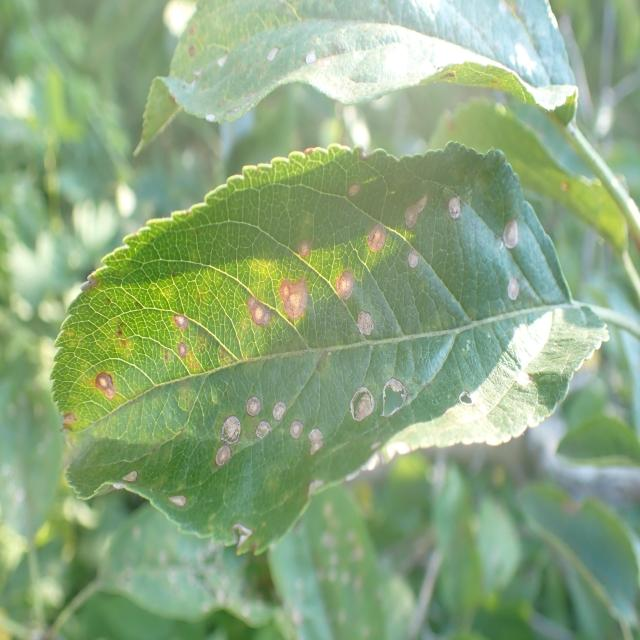frog-eye-leaf-spot: (50, 141, 610, 556)
